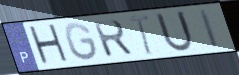G: (63, 21, 101, 63)
H: (26, 22, 72, 68)
I: (197, 7, 222, 50)
R: (91, 18, 135, 59)
T: (126, 13, 154, 57)
U: (153, 10, 196, 55)
